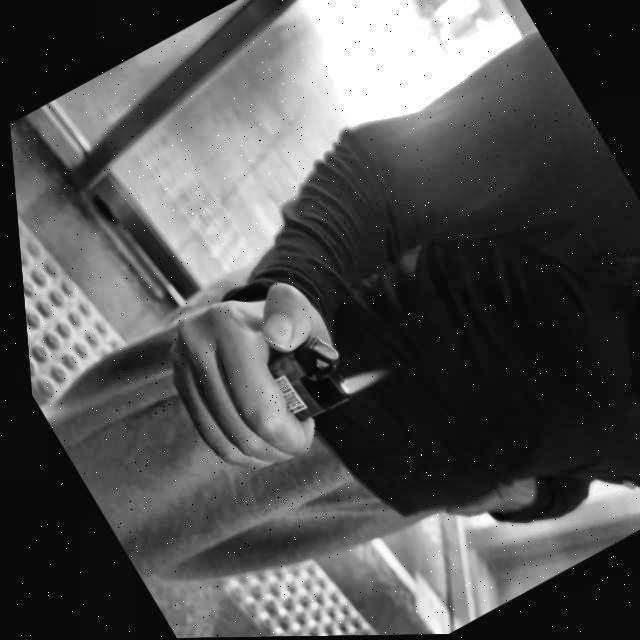Fire: (323, 359, 386, 405)
